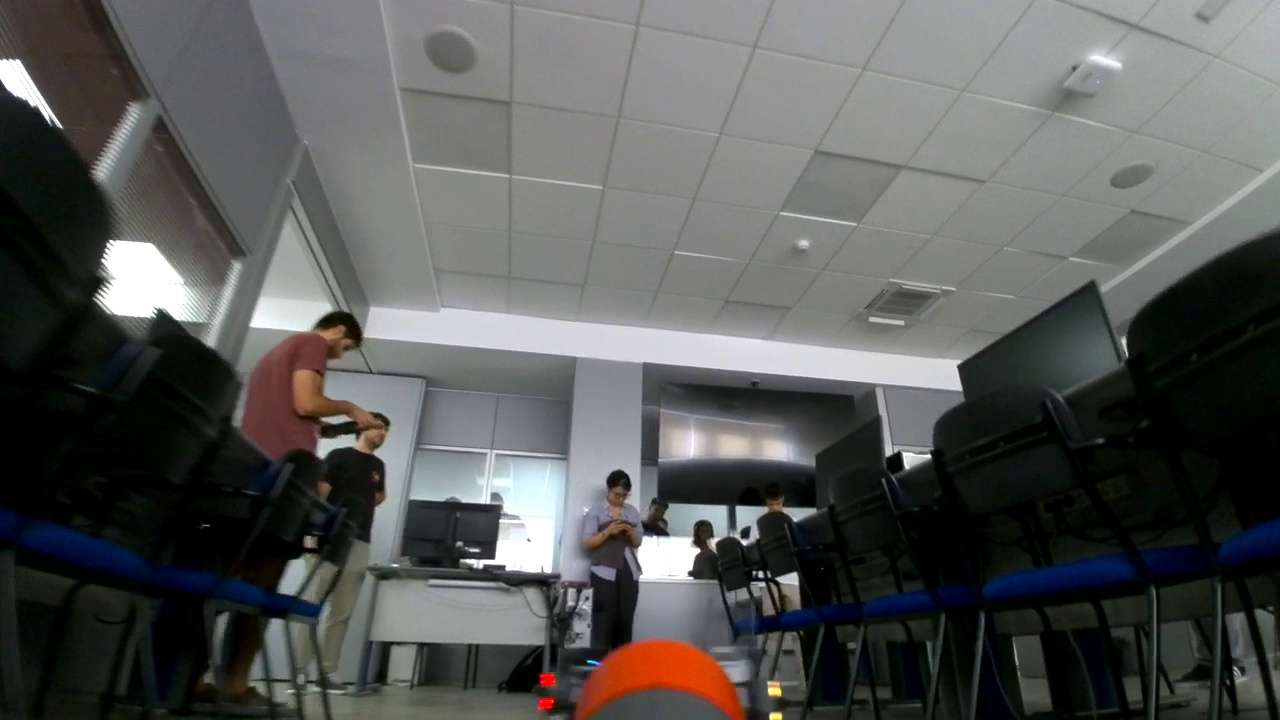robot: (698, 606, 781, 720), (542, 617, 608, 720)
